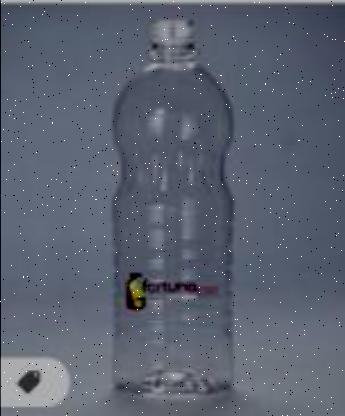Plastic Bottle: (114, 20, 234, 396)
